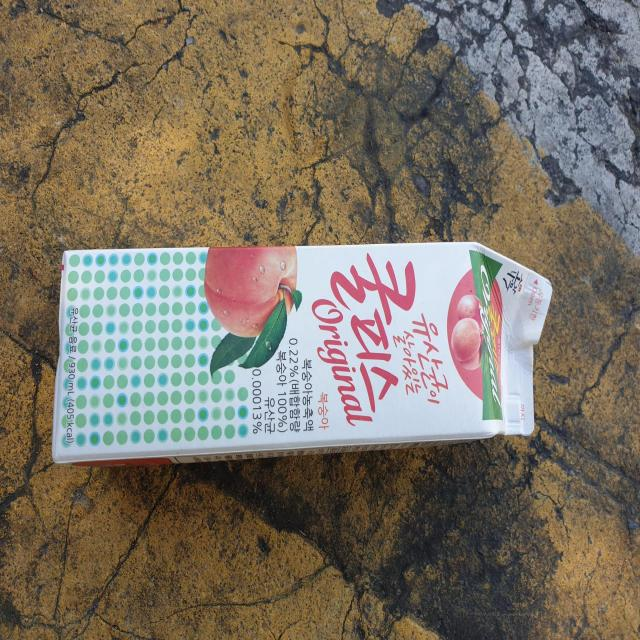paperpack: (52, 242, 553, 466)
